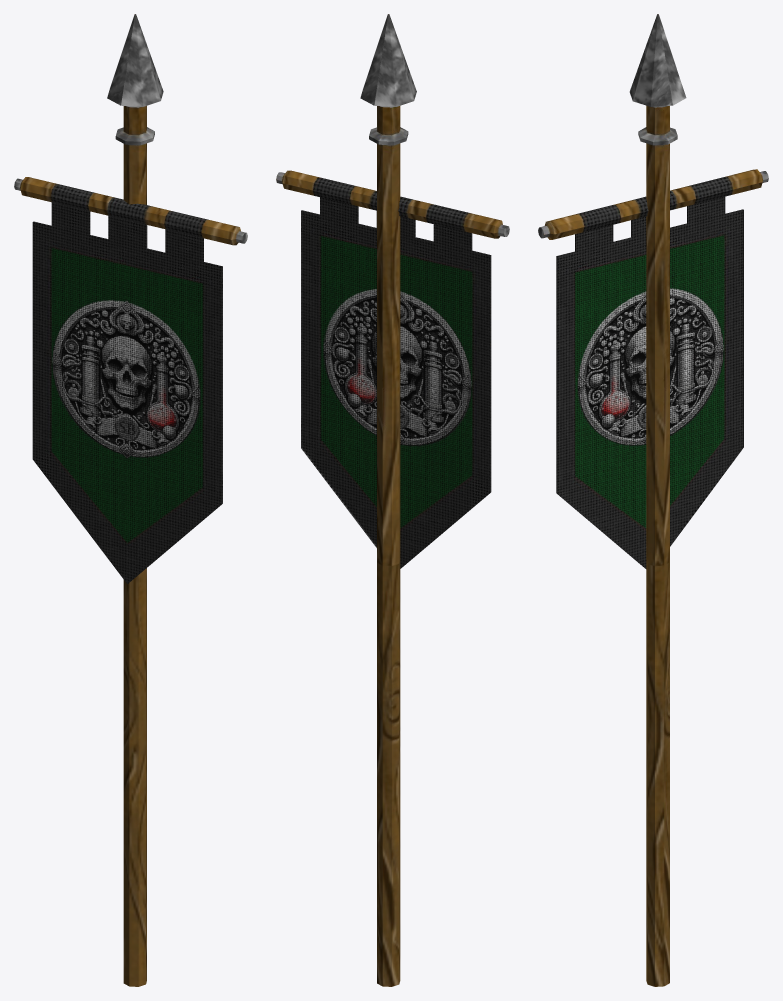
The model's file is Flag_SB.glb.
The picture shows the model from 3 angles, left to right: view 1: azimuth 30°, elevation 25°; view 2: azimuth 210°, elevation 25°; view 3: azimuth 270°, elevation 25°; orthographic projection.
Visible parts, largest first — view 1: Bannière_SB; view 2: Bannière_SB; view 3: Bannière_SB.
Boxes of the visible parts, x1,y1,x2,y2 form: Bannière_SB: [14, 14, 247, 986]; Bannière_SB: [276, 14, 509, 986]; Bannière_SB: [538, 14, 768, 986].
Size of the model in its own units: 0.3628 by 2.7 by 0.5828.
1 material, 1 textured.
